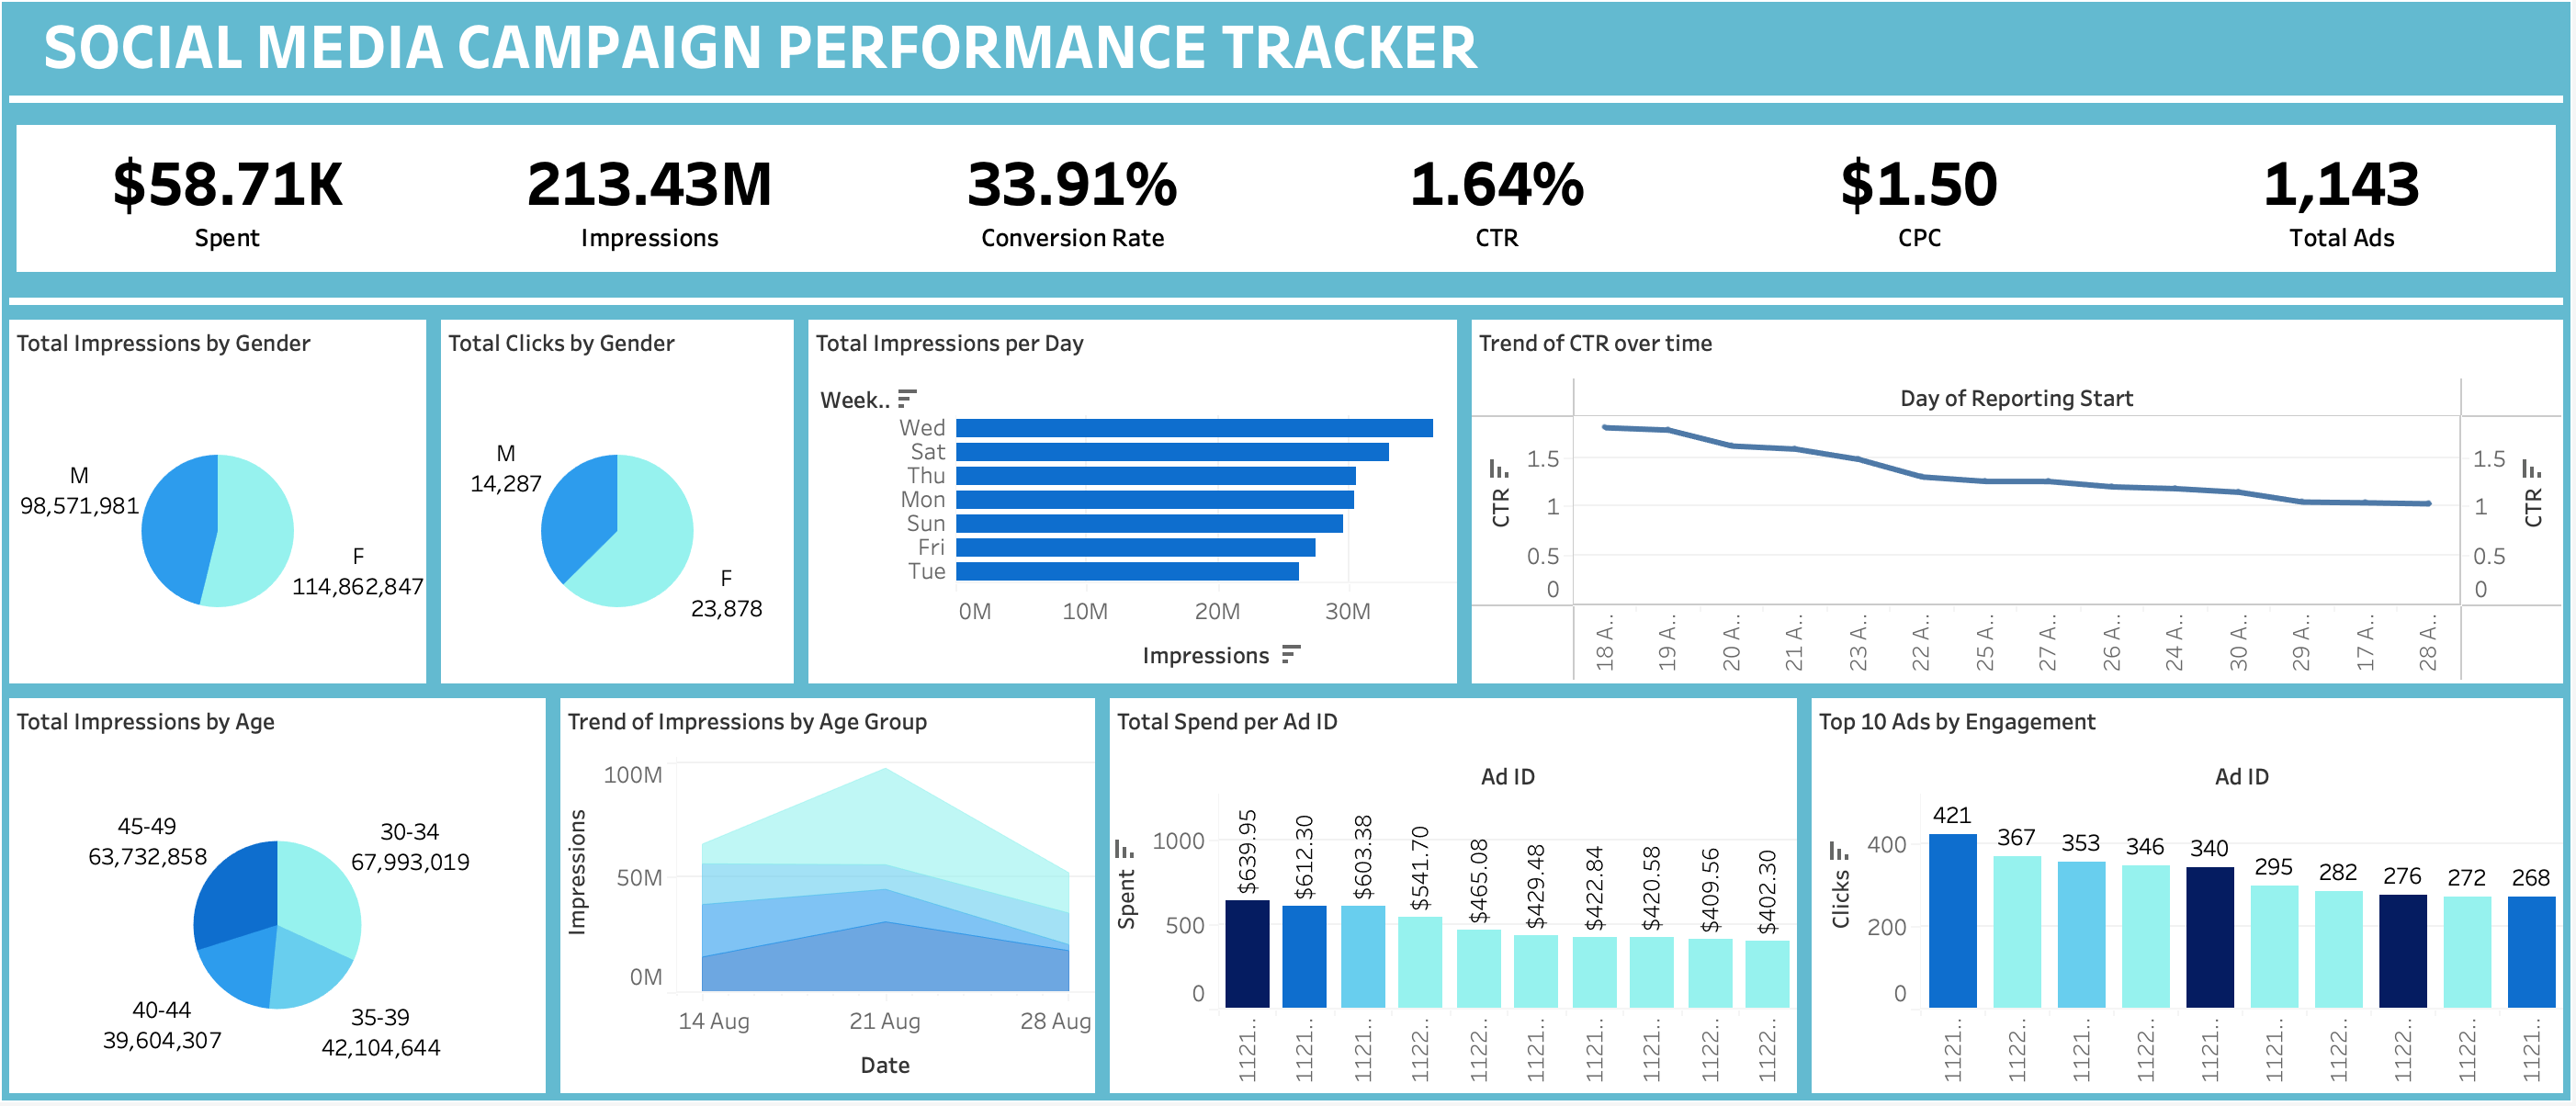

Layout of this report page (visuals, bound fields, positions):
{"tool":"tableau","page":{"name":"Dashboard 1","canvas":[1200,600],"ordinal":0},"visuals":[{"type":"legend","title":"Clicks by Gender","param":"[federated.0ce3ggp0a6o0cz1gtc2i90s7ukw1].[none:Gender:nk]","box":[1032,8,160,66]},{"type":"legend","title":"Clicks by Gender","param":"[federated.0ce3ggp0a6o0cz1gtc2i90s7ukw1].[sum:Clicks:qk]","box":[1032,74,160,46]},{"type":"legend","title":"Impressions by Gender","param":"[federated.0ce3ggp0a6o0cz1gtc2i90s7ukw1].[sum:Impressions:qk]","box":[1032,120,160,46]},{"type":"legend","title":"Impressions per day","param":"[federated.0ce3ggp0a6o0cz1gtc2i90s7ukw1].[yr:Reporting Start:ok]","box":[1032,166,160,46]},{"type":"worksheet","title":"Impressions by Gender","mark":"Pie","box":[1,170,235,206]},{"type":"worksheet","title":"Clicks by Gender","mark":"Pie","box":[236,170,200,206]},{"type":"worksheet","title":"Impressions per day","mark":"Bar","rows":["Reporting Start"],"cols":["Impressions"],"box":[436,170,361,206]},{"type":"legend","title":"Impressions by Age","param":"[federated.0ce3ggp0a6o0cz1gtc2i90s7ukw1].[none:Age:nk]","box":[1032,212,160,106]},{"type":"legend","title":"Top 10 Ads by Clicks","param":"[federated.0ce3ggp0a6o0cz1gtc2i90s7ukw1].[none:Ad ID:ok]","box":[1032,318,160,226]},{"type":"worksheet","title":"Impressions by Age","mark":"Pie","box":[1,376,300,223]},{"type":"worksheet","title":"Impressions by Age group","mark":"Area","rows":["Impressions"],"cols":["Reporting End"],"box":[301,376,299,223]},{"type":"worksheet","title":"Spend per Ad","mark":"Automatic","rows":["Spent"],"cols":["Ad ID"],"box":[600,376,382,223]}]}

Visuals, with their boxes in screenshot pixels (x1, y1, x2, y2):
"Clicks by Gender" legend: bbox=[1878, 15, 2169, 135]
"Clicks by Gender" legend: bbox=[1878, 135, 2169, 219]
"Impressions by Gender" legend: bbox=[1878, 219, 2169, 302]
"Impressions per day" legend: bbox=[1878, 302, 2169, 386]
"Impressions by Gender" worksheet (Pie marks): bbox=[2, 310, 429, 684]
"Clicks by Gender" worksheet (Pie marks): bbox=[429, 310, 793, 684]
"Impressions per day" worksheet (Bar marks): bbox=[793, 310, 1450, 684]
"Impressions by Age" legend: bbox=[1878, 386, 2169, 579]
"Top 10 Ads by Clicks" legend: bbox=[1878, 579, 2169, 989]
"Impressions by Age" worksheet (Pie marks): bbox=[2, 684, 548, 1089]
"Impressions by Age group" worksheet (Area marks): bbox=[548, 684, 1091, 1089]
"Spend per Ad" worksheet: bbox=[1091, 684, 1787, 1089]
